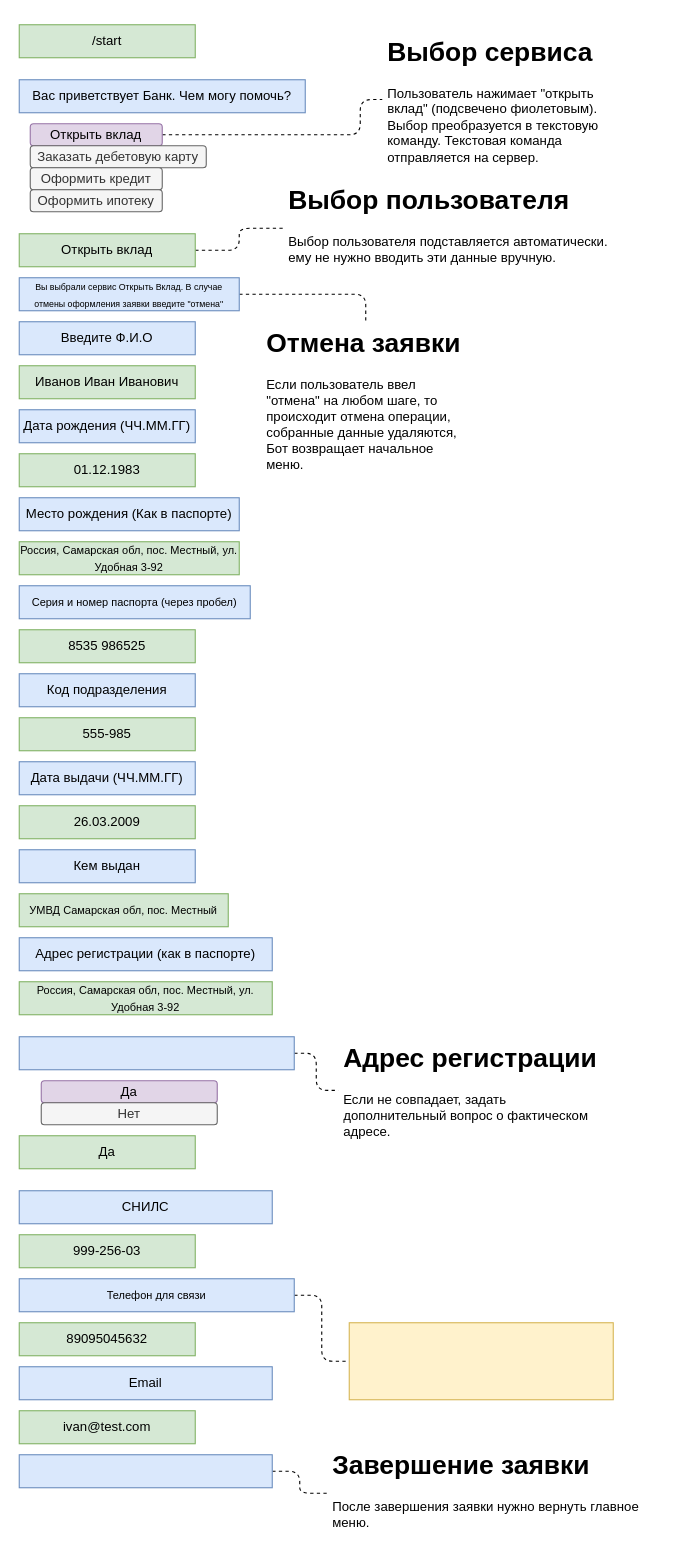
The diagram is 688 pixels wide and 1561 high, and some of its shapes have lost their labels. The box of each missing label's shape, as (x1, y1, x2, y2) in pixels:
Ваша заявка принята: (18, 1454, 272, 1488)
Телефон Возможно ли получить телефон из чата?: (348, 1322, 613, 1400)
Фактический андрес совпадает с адресом регистрации: (18, 1036, 294, 1070)
